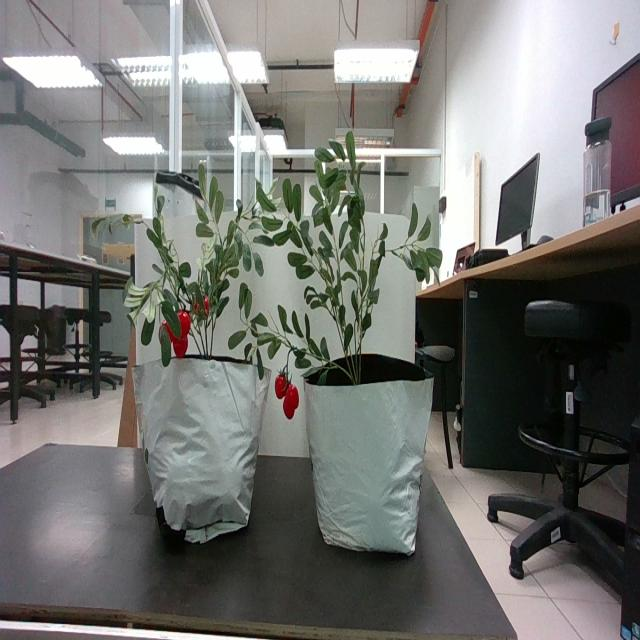Soilbag: (305, 355, 434, 560), (134, 356, 272, 546)
Tomato: (274, 367, 300, 420)
plant: (228, 132, 444, 410), (122, 164, 290, 368)
